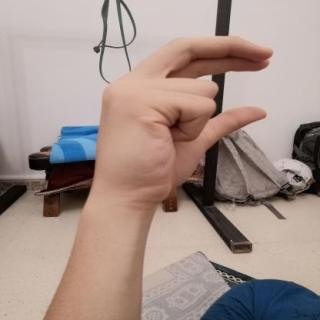DHELL: (76, 27, 286, 210)
